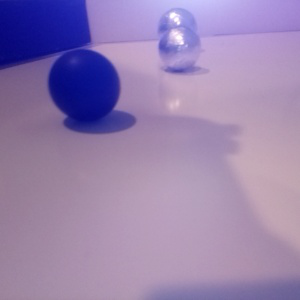alive_ball: (159, 27, 201, 72), (158, 8, 197, 49)
dead_ball: (47, 50, 120, 121)
